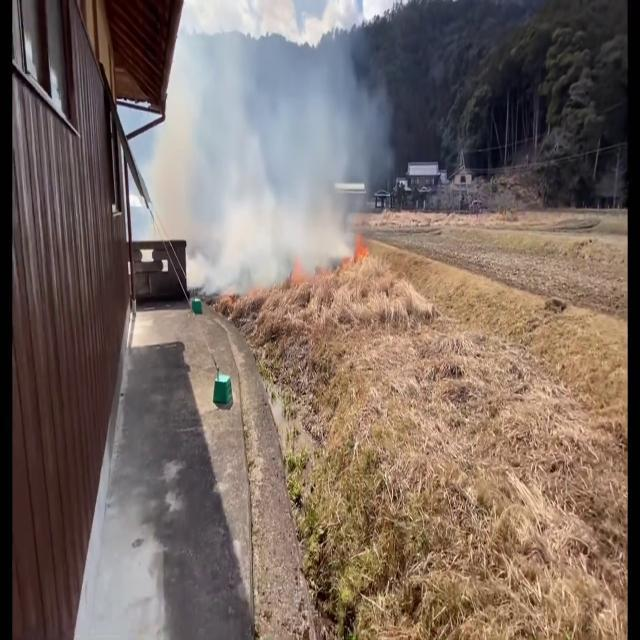Smoke: (160, 0, 394, 314)
